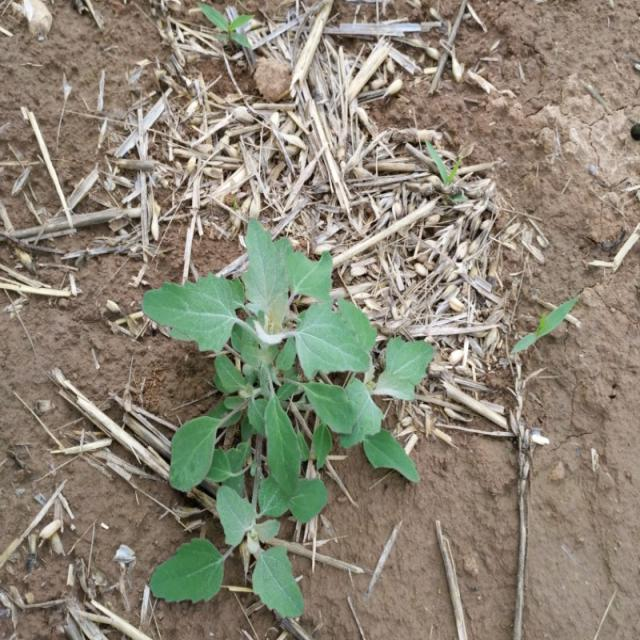goosefoots: (145, 234, 418, 618)
